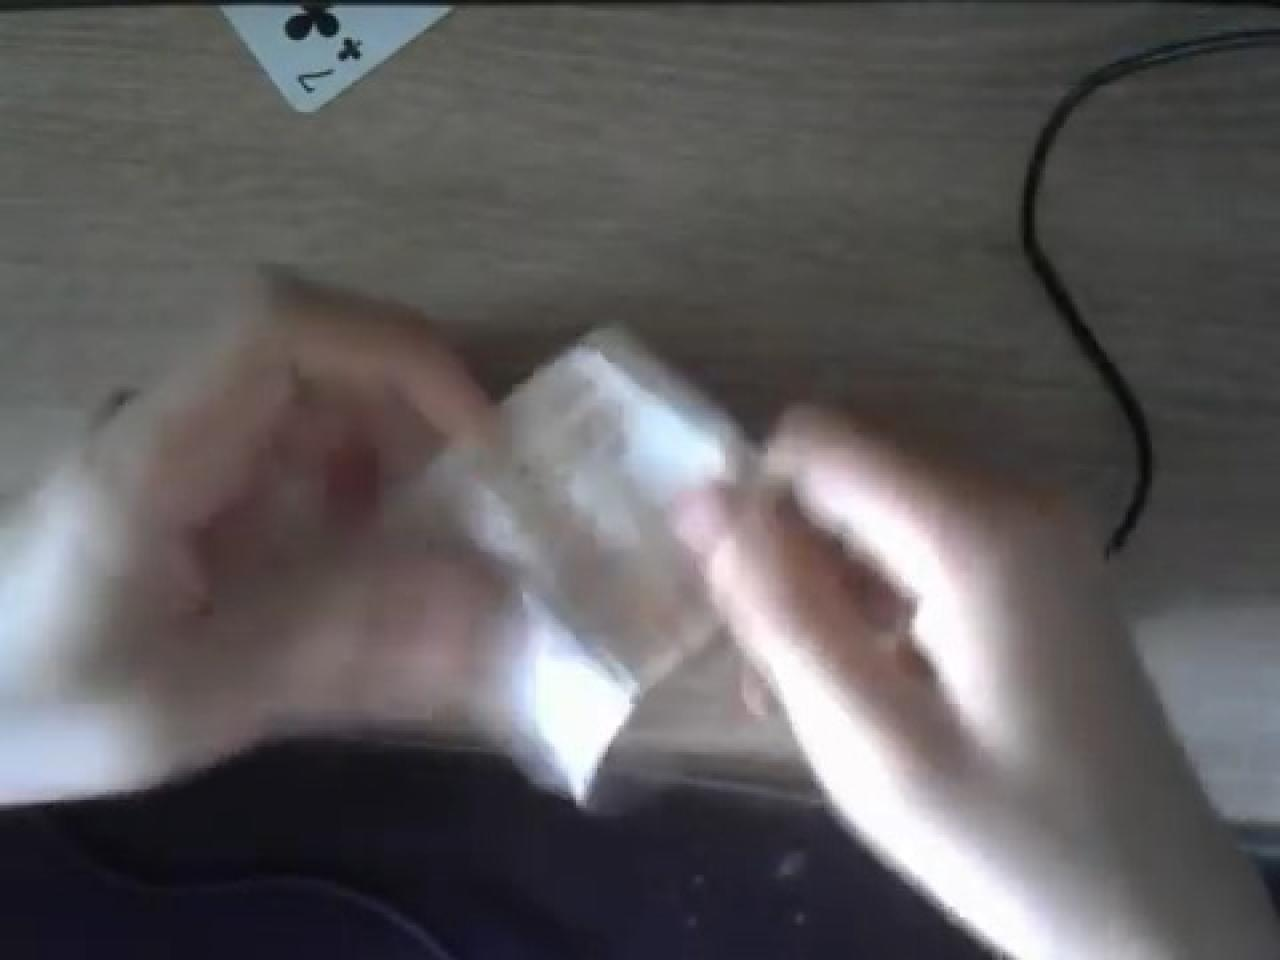5leva: (429, 320, 768, 712)
